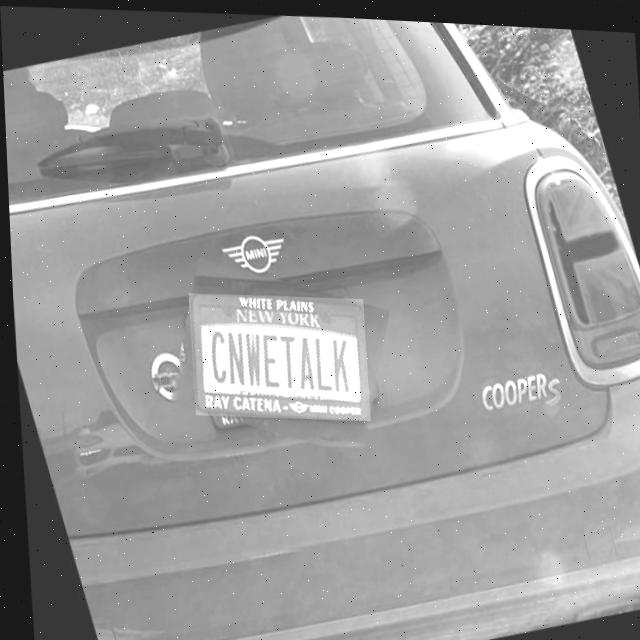LicensePlate: (188, 291, 365, 417)
